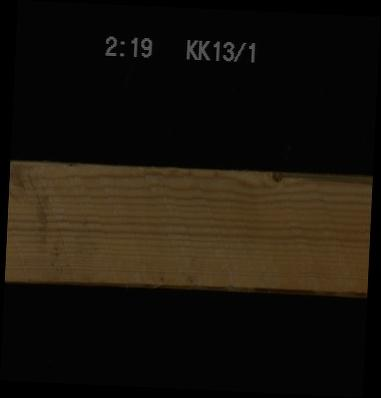edge_knot: (268, 170, 283, 188)
wave: (49, 276, 363, 292), (280, 172, 371, 184)
